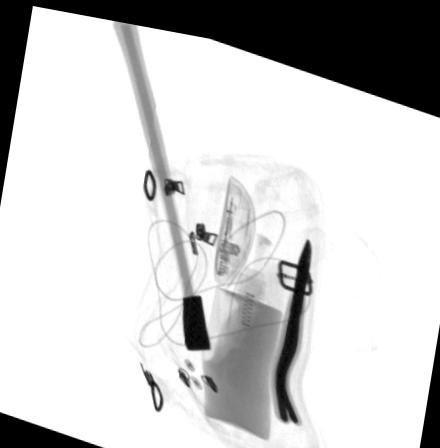Hammer: (112, 16, 210, 344)
Pliers: (268, 227, 311, 415)
